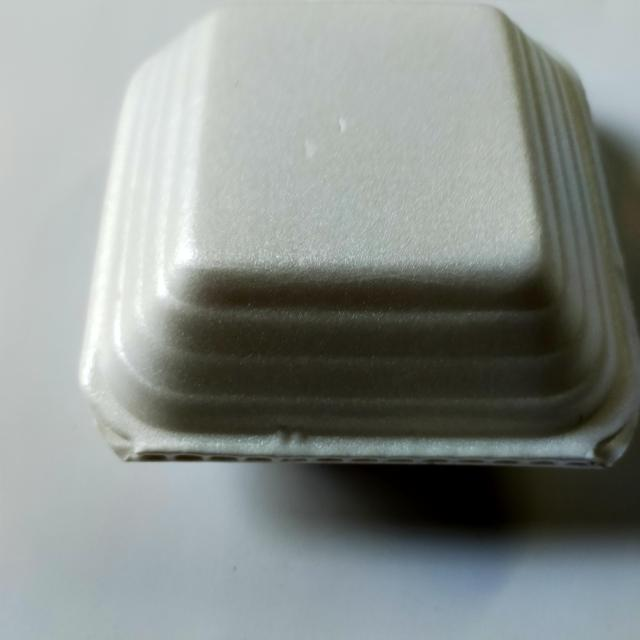styrofoam: (76, 1, 638, 471)
